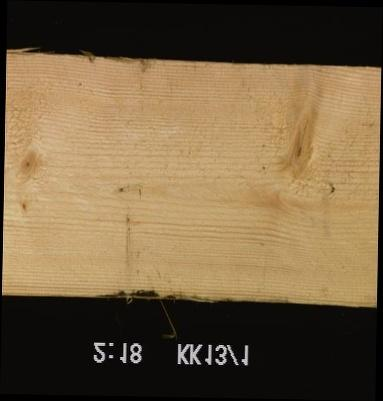small_knot: (11, 197, 34, 219)
sound_knot: (11, 143, 39, 184)
